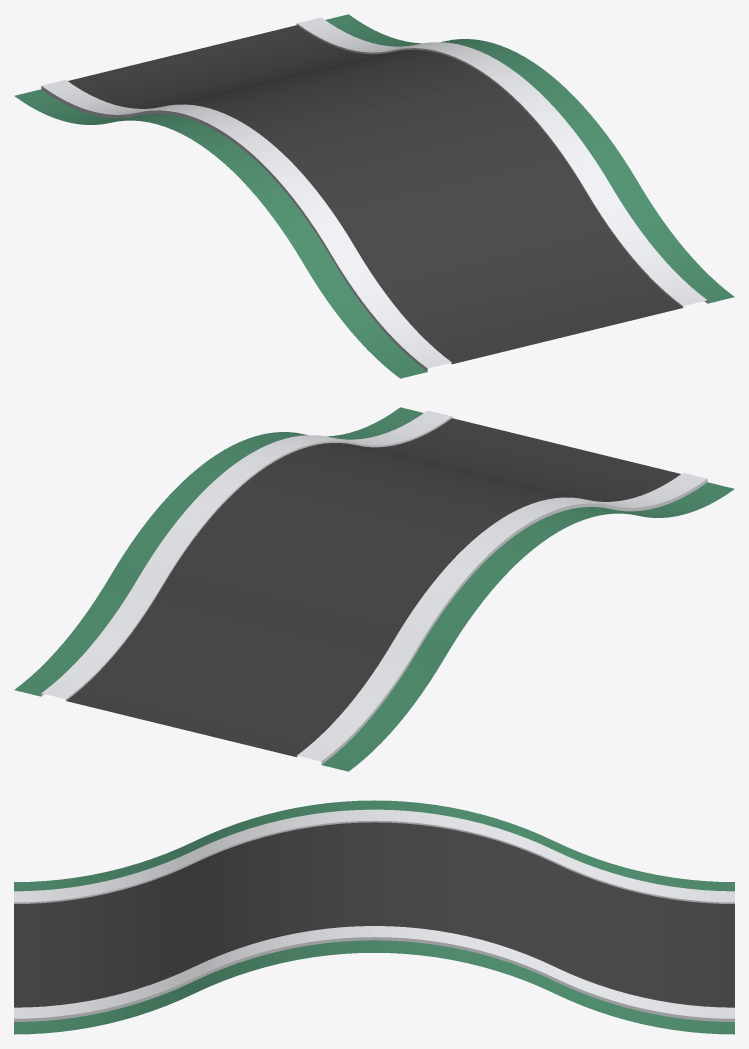
The model's file is road-straight-long-bump.dae.
The picture shows the model from 3 angles, top to bottom: view 1: azimuth 30°, elevation 25°; view 2: azimuth 150°, elevation 25°; view 3: azimuth 270°, elevation 25°; orthographic projection. The views are drawn at different scales.
Visible parts, largest first — view 1: roadStraightLongBump; view 2: roadStraightLongBump; view 3: roadStraightLongBump.
Boxes of the visible parts, x1,y1,x2,y2 form: roadStraightLongBump: [14, 14, 734, 378]; roadStraightLongBump: [14, 407, 734, 771]; roadStraightLongBump: [14, 800, 734, 1034].
Size of the model in its own units: 1 by 0.26 by 2.
